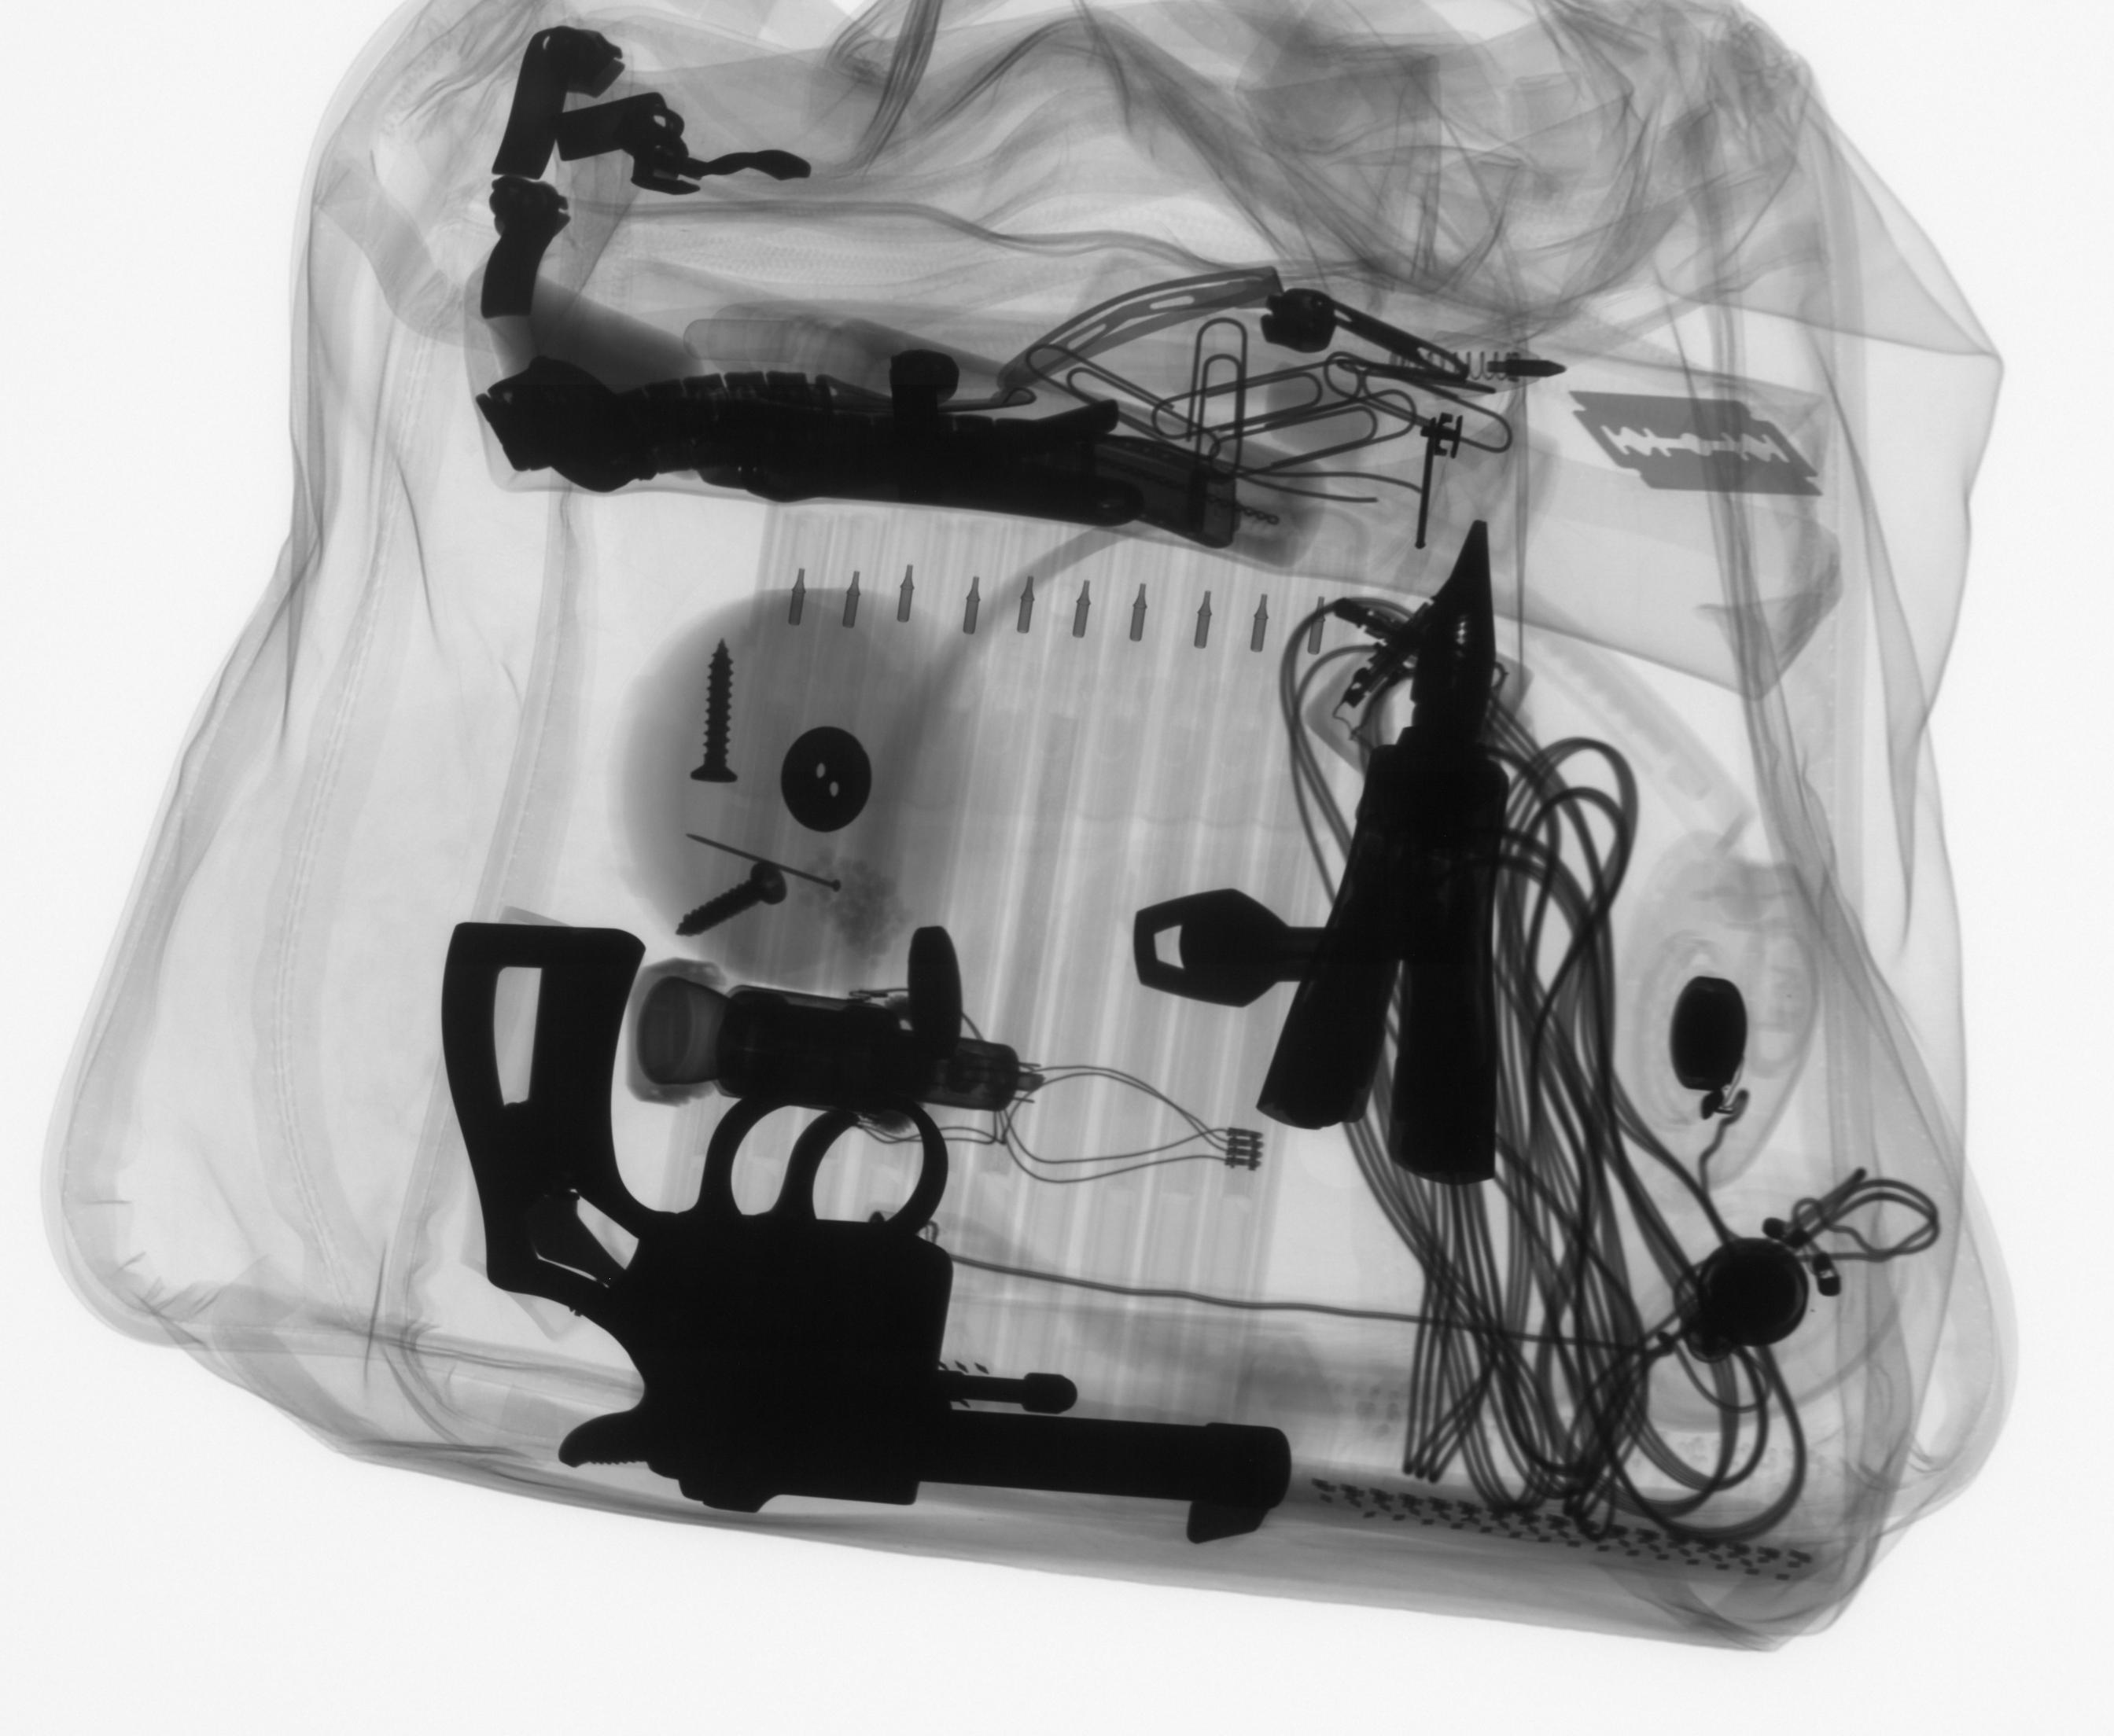Handgun: (430, 916, 1302, 1556)
RazorBlade: (1563, 380, 1831, 512)
